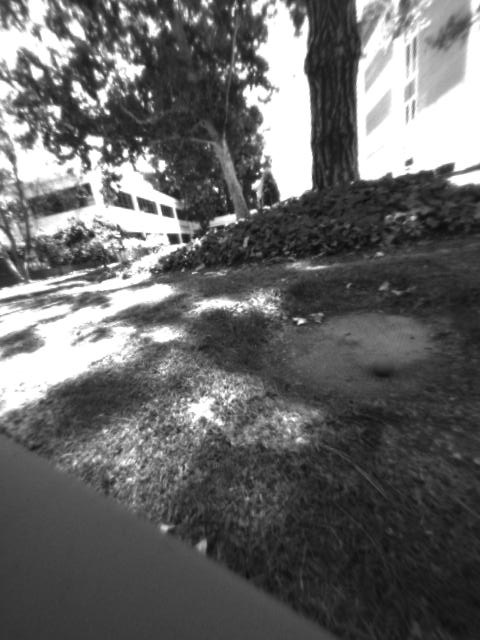dogtoy: (363, 348, 403, 385)
